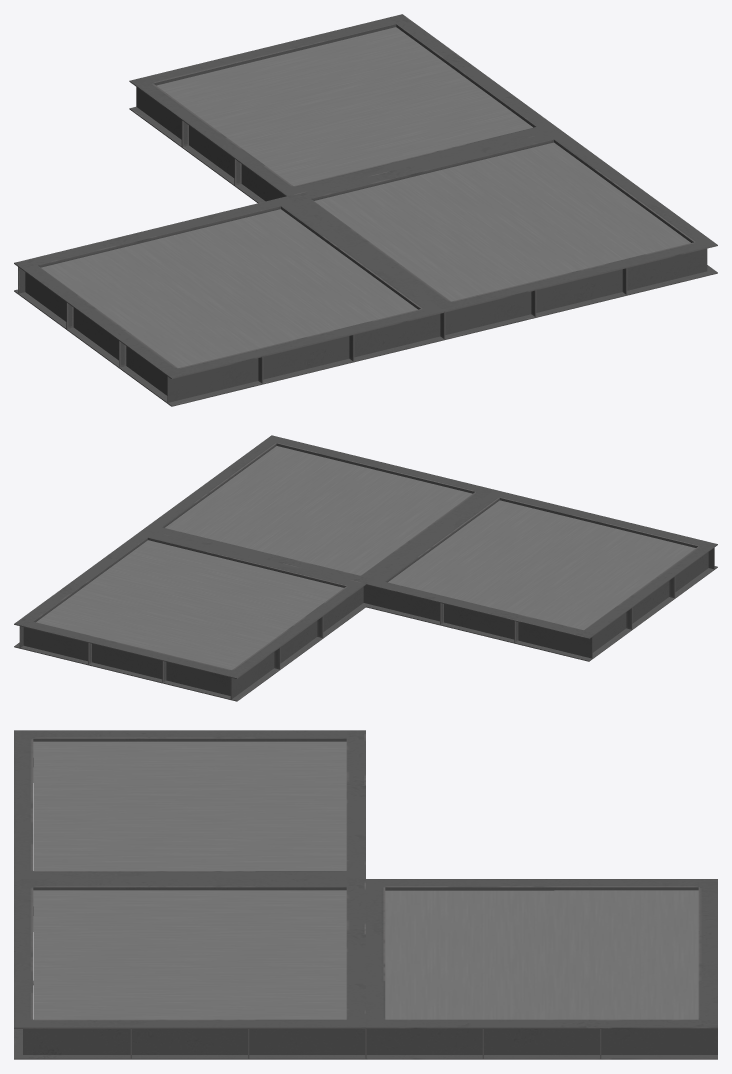
Rendered from SM05_Architecture_MezzanineFloor_01_Corner.fbx.
The picture shows the model from 3 angles, top to bottom: view 1: azimuth 30°, elevation 25°; view 2: azimuth 150°, elevation 25°; view 3: azimuth 270°, elevation 25°; orthographic projection. The views are drawn at different scales.
Visible parts, largest first — view 1: SM05_Architecture_MezzanineFloor_01_Corner; view 2: SM05_Architecture_MezzanineFloor_01_Corner; view 3: SM05_Architecture_MezzanineFloor_01_Corner.
Boxes of the visible parts, left/top/right/bottom form: SM05_Architecture_MezzanineFloor_01_Corner: left=14, top=14, right=717, bottom=406; SM05_Architecture_MezzanineFloor_01_Corner: left=14, top=435, right=717, bottom=701; SM05_Architecture_MezzanineFloor_01_Corner: left=14, top=730, right=717, bottom=1059.
Size of the model in its own units: 2 by 0.1 by 2.
